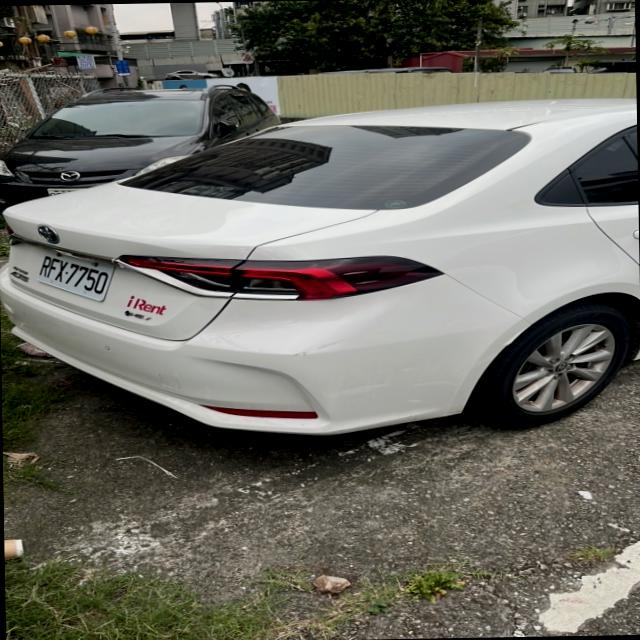license plate: (37, 254, 112, 300)
wheel: (475, 304, 628, 427)
